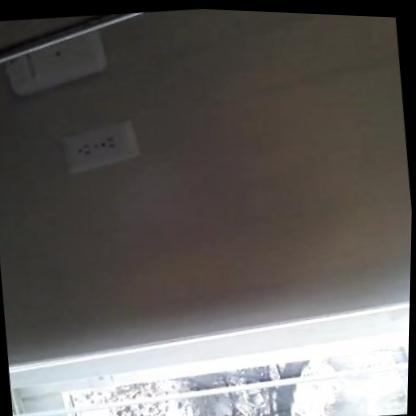OUTLET: (59, 118, 138, 171)
